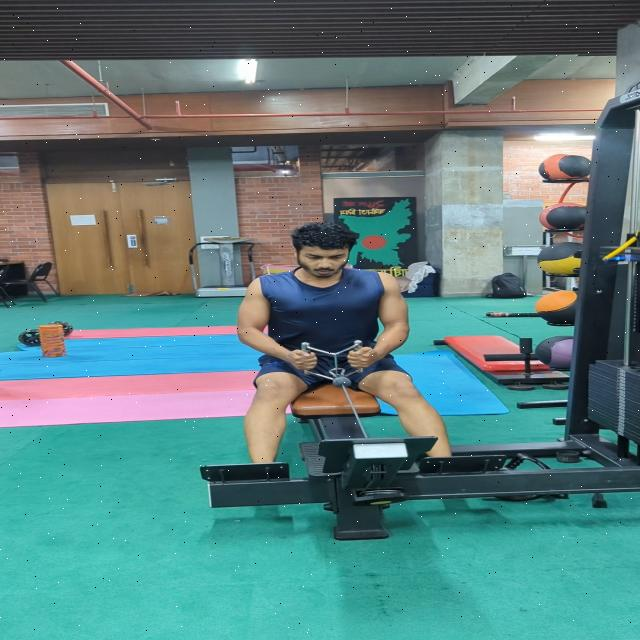Normal_RowingMachineExercise: (233, 222, 452, 466)
